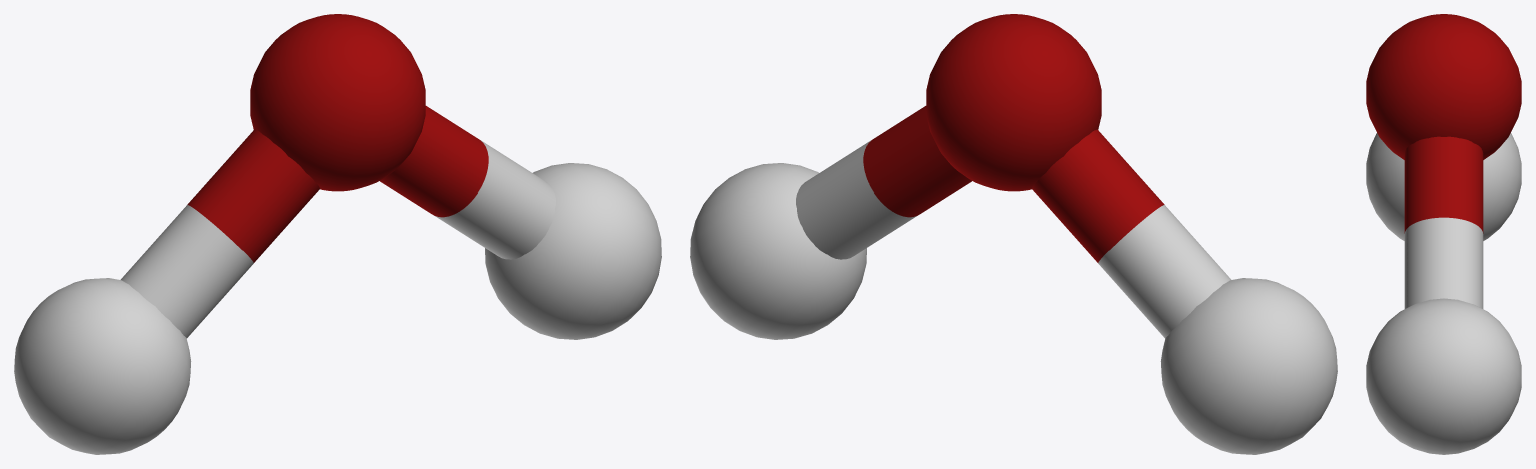
Rendered from bent.fbx.
3 renders of one model, left to right at view 1: azimuth 30°, elevation 25°; view 2: azimuth 150°, elevation 25°; view 3: azimuth 270°, elevation 25°, orthographic. The views are drawn at different scales.
Parts seen in each view (by area): view 1: Sphere_1, Sphere, Sphere_1_2, Cylinder_2, Cylinder_1, Cylinder_2_2, Cylinder; view 2: Sphere_1, Sphere, Sphere_1_2, Cylinder_2, Cylinder_1, Cylinder_2_2, Cylinder; view 3: Sphere_1_2, Sphere, Cylinder, Cylinder_2_2, Sphere_1.
Part boxes in pixels (<box>): Sphere_1: <box>14,278,191,454</box>; Sphere: <box>250,14,425,191</box>; Sphere_1_2: <box>485,163,661,339</box>; Cylinder_2: <box>120,205,253,338</box>; Cylinder_1: <box>187,129,319,262</box>; Cylinder_2_2: <box>435,140,555,259</box>; Cylinder: <box>380,106,488,217</box>; Sphere_1: <box>1160,278,1337,454</box>; Sphere: <box>926,14,1101,191</box>; Sphere_1_2: <box>690,163,866,339</box>; Cylinder_2: <box>1098,205,1231,338</box>; Cylinder_1: <box>1032,129,1164,262</box>; Cylinder_2_2: <box>796,140,916,259</box>; Cylinder: <box>863,106,971,217</box>; Sphere_1_2: <box>1366,298,1521,454</box>; Sphere: <box>1366,14,1521,159</box>; Cylinder: <box>1404,136,1483,233</box>; Cylinder_2_2: <box>1404,217,1483,308</box>; Sphere_1: <box>1366,133,1521,240</box>.
Bounding box in the file's own units: 812 × 456 × 198.
